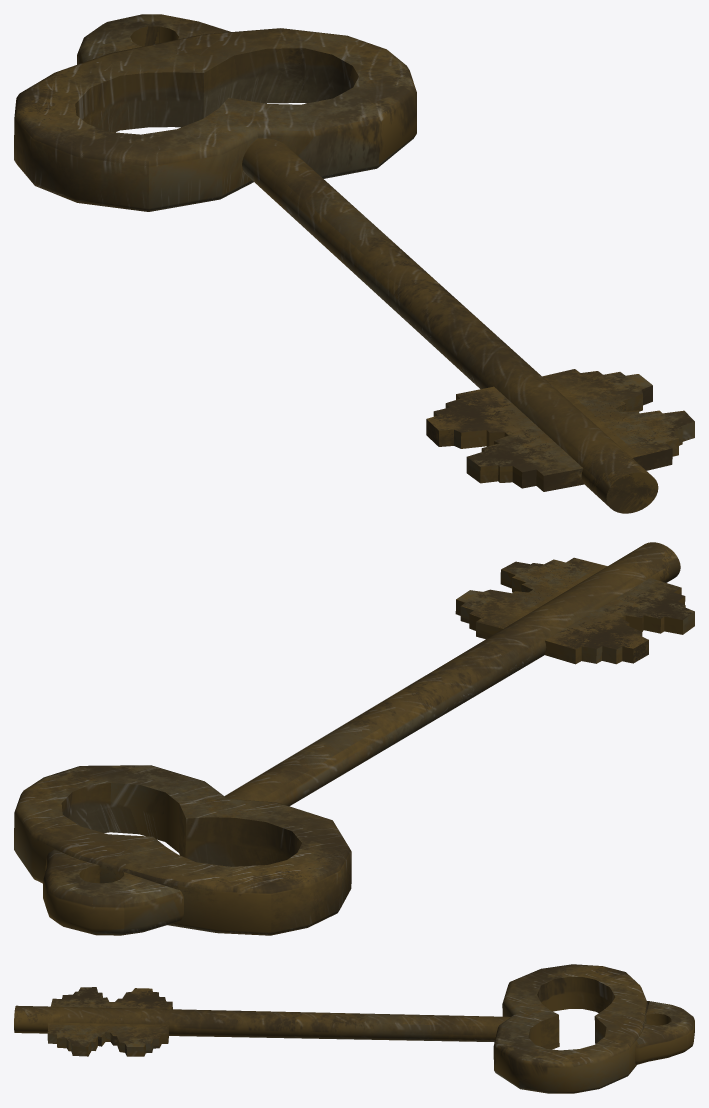
Rendered from key2.fbx.
3 views of the same model, one above another, from view 1: azimuth 30°, elevation 25°; view 2: azimuth 150°, elevation 25°; view 3: azimuth 270°, elevation 25° (orthographic). The views are drawn at different scales.
Visible parts, largest first — view 1: Cube.002; view 2: Cube.002; view 3: Cube.002.
Part boxes in pixels (x1,y1,x2,y2): Cube.002: (14,14,694,513); Cube.002: (14,542,694,935); Cube.002: (14,964,694,1093).
Bounding box in the file's own units: 102 × 16.53 × 291.
Materials: 1 (1 with a texture image).
